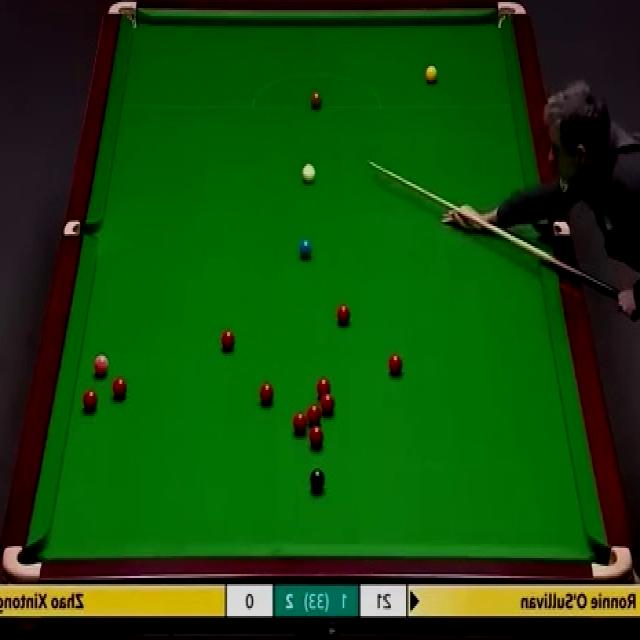pocket: (589, 542, 635, 582), (0, 543, 43, 582), (497, 0, 527, 31), (109, 0, 139, 31), (63, 221, 102, 237)
